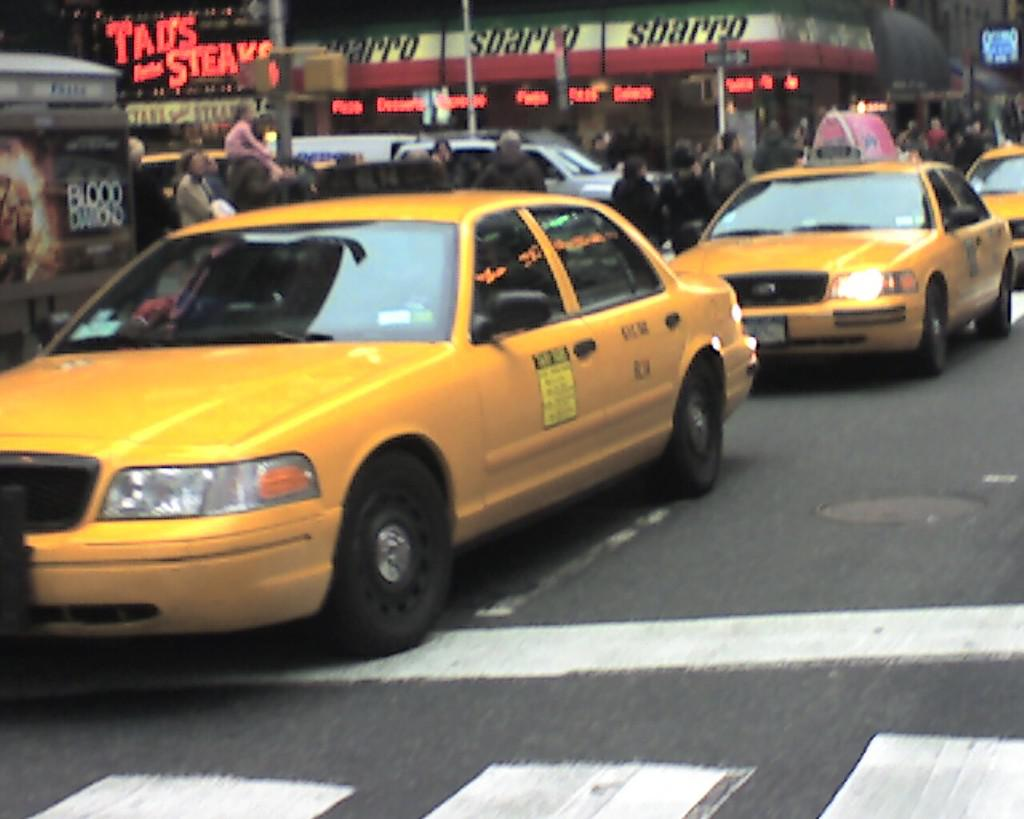taxi: (1, 189, 761, 653), (671, 145, 1021, 378), (968, 144, 1024, 288)
